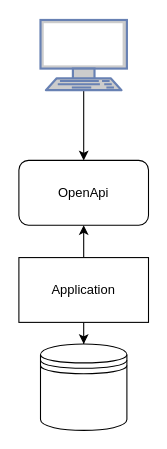
This 167x449 diagram has some shape labels left out. The shapes that lost their labels are listed below. From the top down, each one's centre as x and y in pixels, then its label:
At point 83,54: "frontend".
At point 83,386: "Graph DB".
